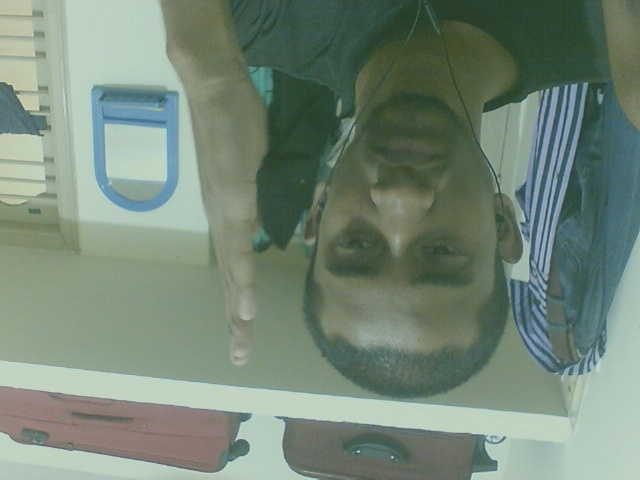hand: (174, 53, 273, 372)
